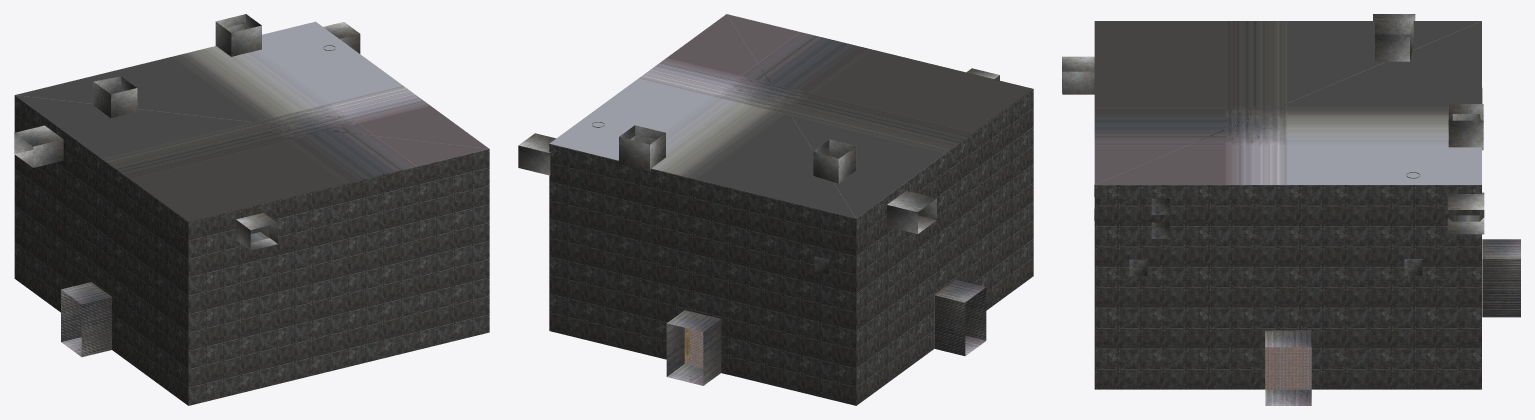
The model's file is room_3.fbx.
3 renders of one model, left to right at view 1: azimuth 30°, elevation 25°; view 2: azimuth 150°, elevation 25°; view 3: azimuth 270°, elevation 25°, orthographic. The views are drawn at different scales.
Visible parts, largest first — view 1: Plane.002, Plane.004, Plane.001, Plane.003; view 2: Plane.002, Plane.004, Plane.001, Plane.003, Plane.006, Plane; view 3: Plane.002, Plane.004, Plane.001, Plane.006, Plane, Plane.005.
Part boxes in pixels (x1=…): Plane.002: x1=14, y1=95, x2=489, y2=405; Plane.004: x1=15, y1=21, x2=489, y2=222; Plane.001: x1=14, y1=14, x2=360, y2=250; Plane.003: x1=61, y1=282, x2=111, y2=357; Plane.002: x1=549, y1=89, x2=1033, y2=405; Plane.004: x1=549, y1=14, x2=1032, y2=218; Plane.001: x1=518, y1=68, x2=999, y2=233; Plane.003: x1=934, y1=279, x2=986, y2=355; Plane.006: x1=666, y1=310, x2=721, y2=385; Plane: x1=685, y1=287, x2=944, y2=368; Plane.002: x1=1094, y1=185, x2=1481, y2=389; Plane.004: x1=1094, y1=21, x2=1481, y2=184; Plane.001: x1=1062, y1=14, x2=1484, y2=234; Plane.006: x1=1482, y1=239, x2=1520, y2=317; Plane: x1=1265, y1=330, x2=1311, y2=389; Plane.005: x1=1265, y1=331, x2=1311, y2=405.
Size of the model in its own units: 1201 by 661 by 1184.
Materials: 12 (12 with a texture image).
